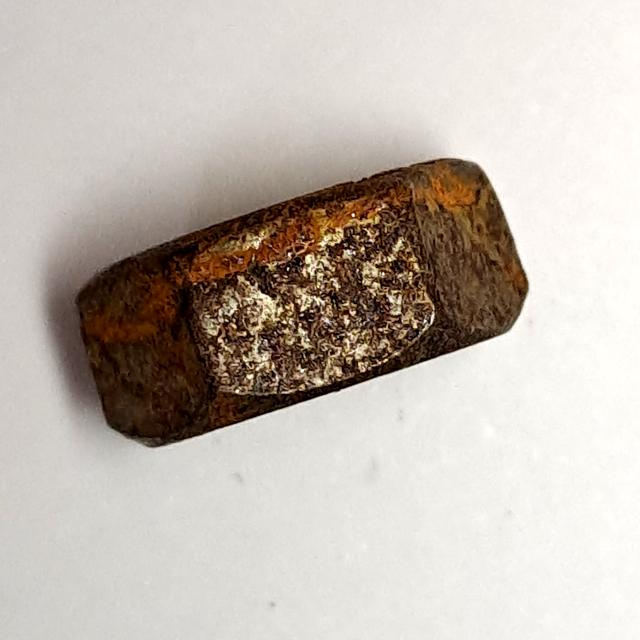Side_Rust: (59, 145, 547, 459)
